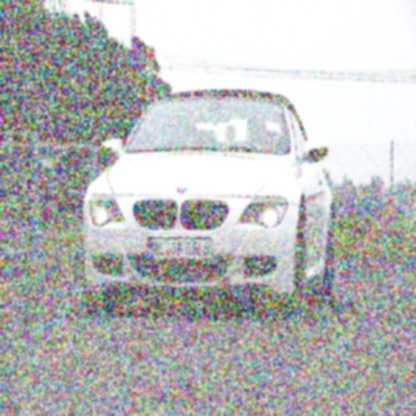Vehicle: (82, 89, 340, 317)
